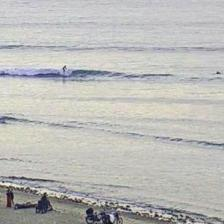surfer: (62, 65, 68, 72), (216, 71, 221, 74)
